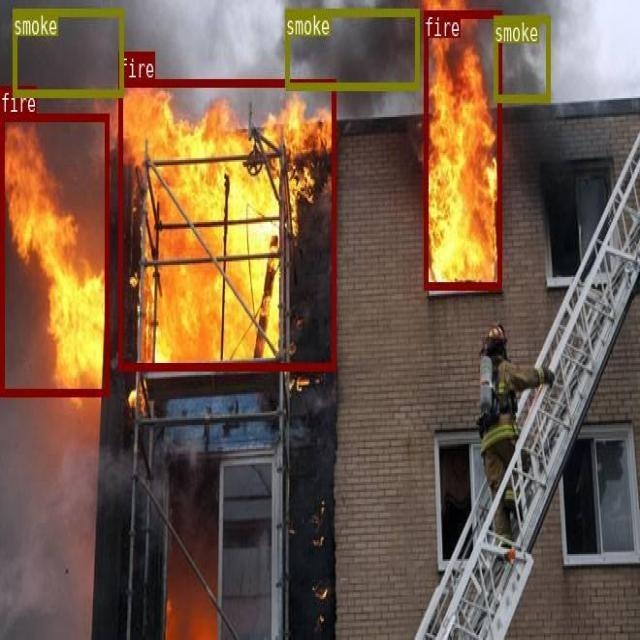fire: (118, 78, 335, 368), (0, 112, 108, 394), (424, 9, 501, 288)
smoke: (285, 7, 418, 89), (12, 8, 123, 96), (493, 15, 550, 100)
